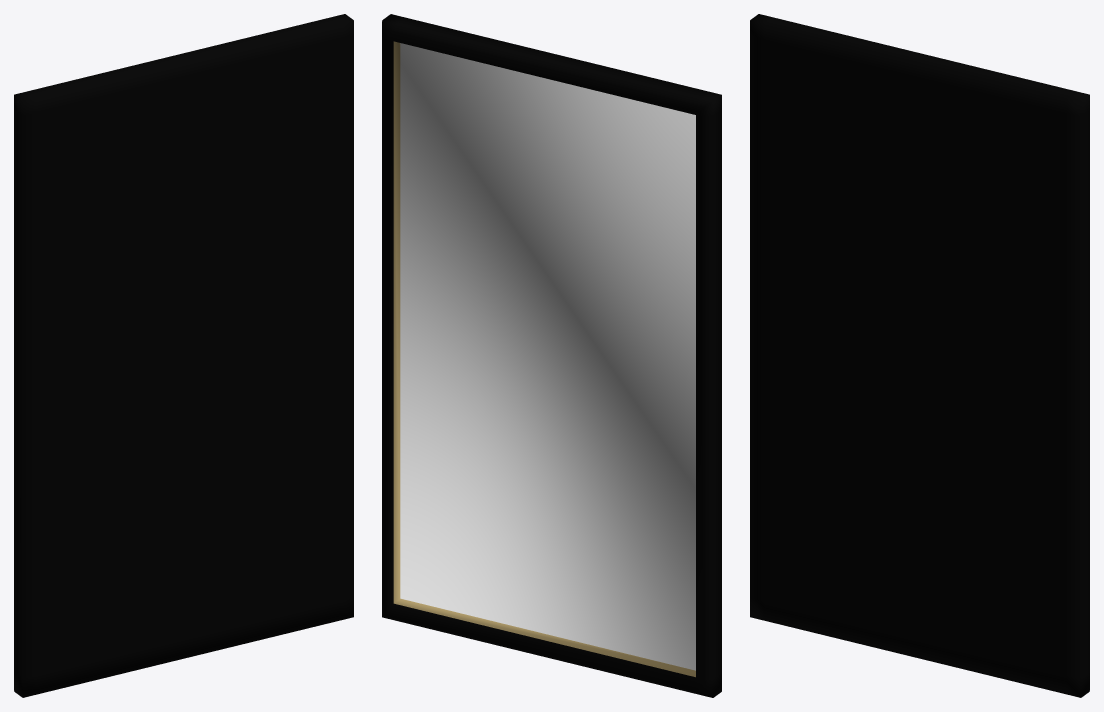
The model's file is Poster.fbx.
3 views of the same model, side by side, from view 1: azimuth 30°, elevation 25°; view 2: azimuth 150°, elevation 25°; view 3: azimuth 330°, elevation 25° (orthographic).
Parts seen in each view (by area): view 1: Poster; view 2: Poster; view 3: Poster.
Part boxes in pixels (box(x1,y1,x2,y2)): Poster: box(14, 14, 353, 697); Poster: box(382, 14, 721, 697); Poster: box(750, 14, 1089, 697).
Size of the model in its own units: 80.02 by 138 by 4.85.
